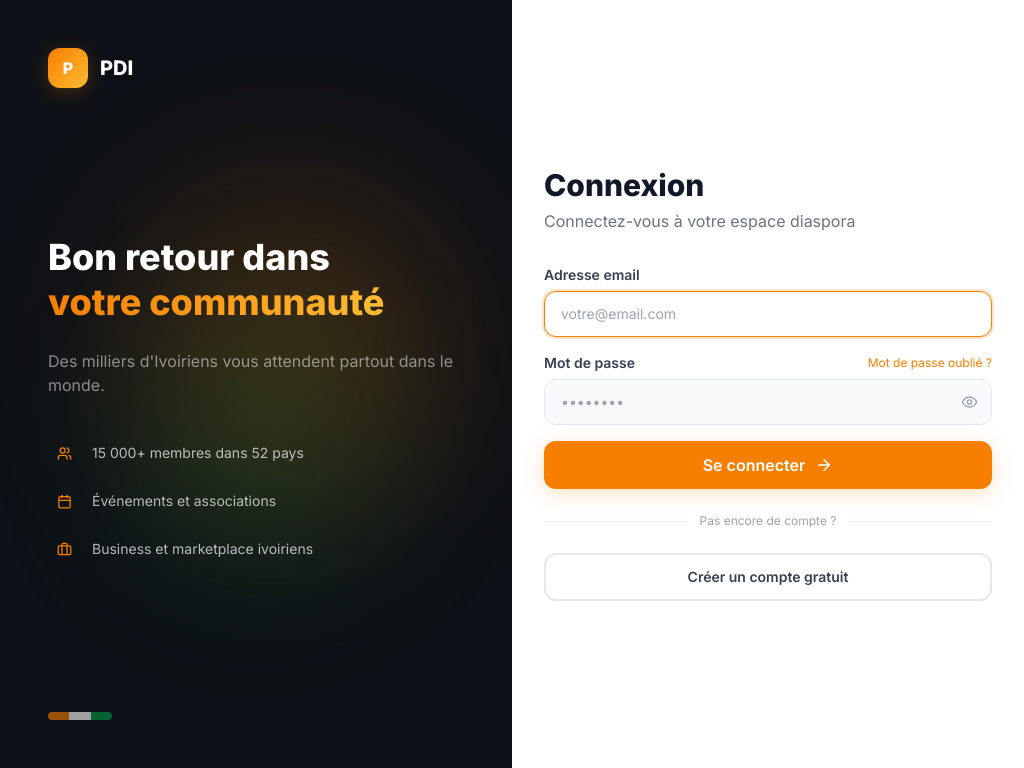
Test: LoginPage › shows error message on invalid credentials
Step 1. Type "bad@example.com" into the field labelled "Adresse email" → (768, 314), box left=544, top=291, right=992, bottom=337
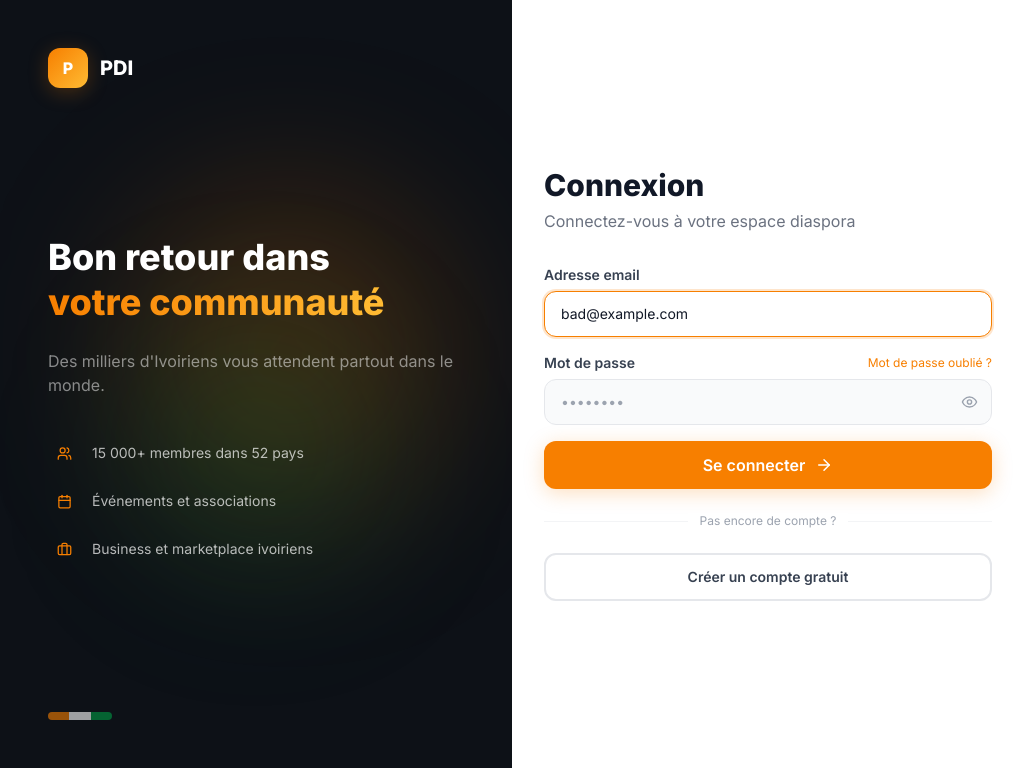
Step 2. Type "wrongpass" into the password field labelled "Mot de passe" → (768, 402), box left=544, top=379, right=992, bottom=425
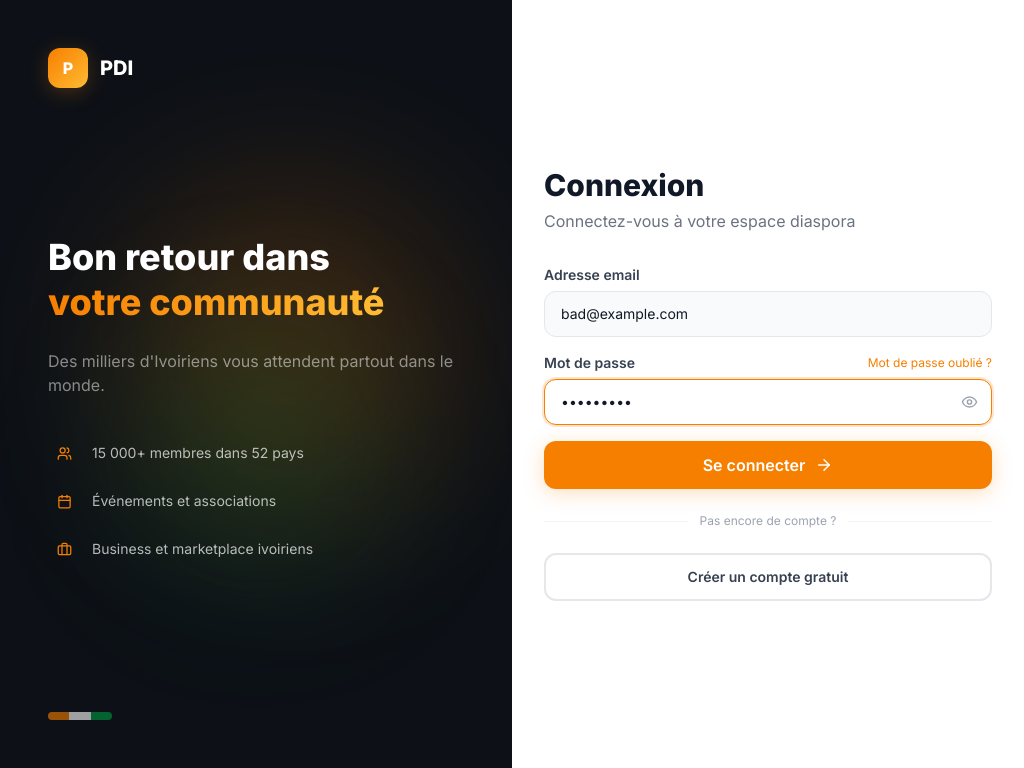
Step 3. Click the button "Se connecter" → click(768, 465), box left=544, top=441, right=992, bottom=489
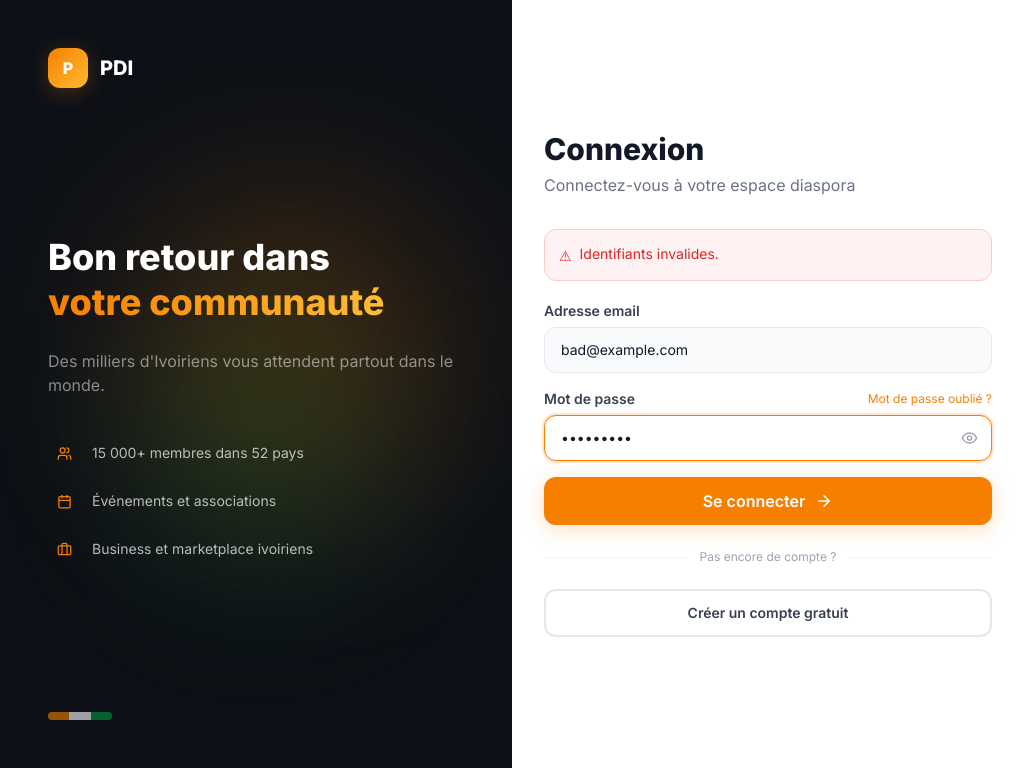
Expected: the text "Identifiants invalides." is shown, left=580, top=245, right=719, bottom=262
